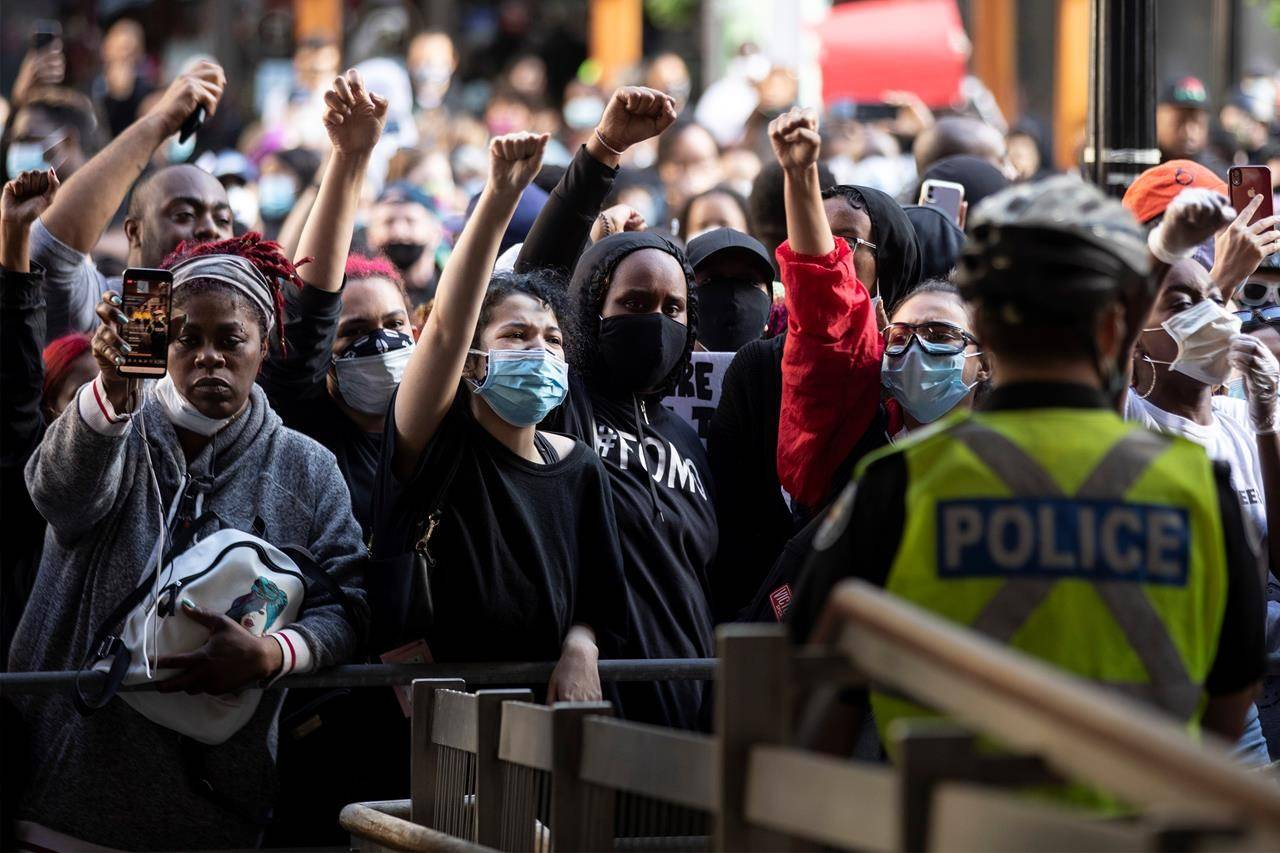mouth: (189, 376, 233, 398)
nose: (193, 352, 224, 370), (193, 222, 220, 239)
